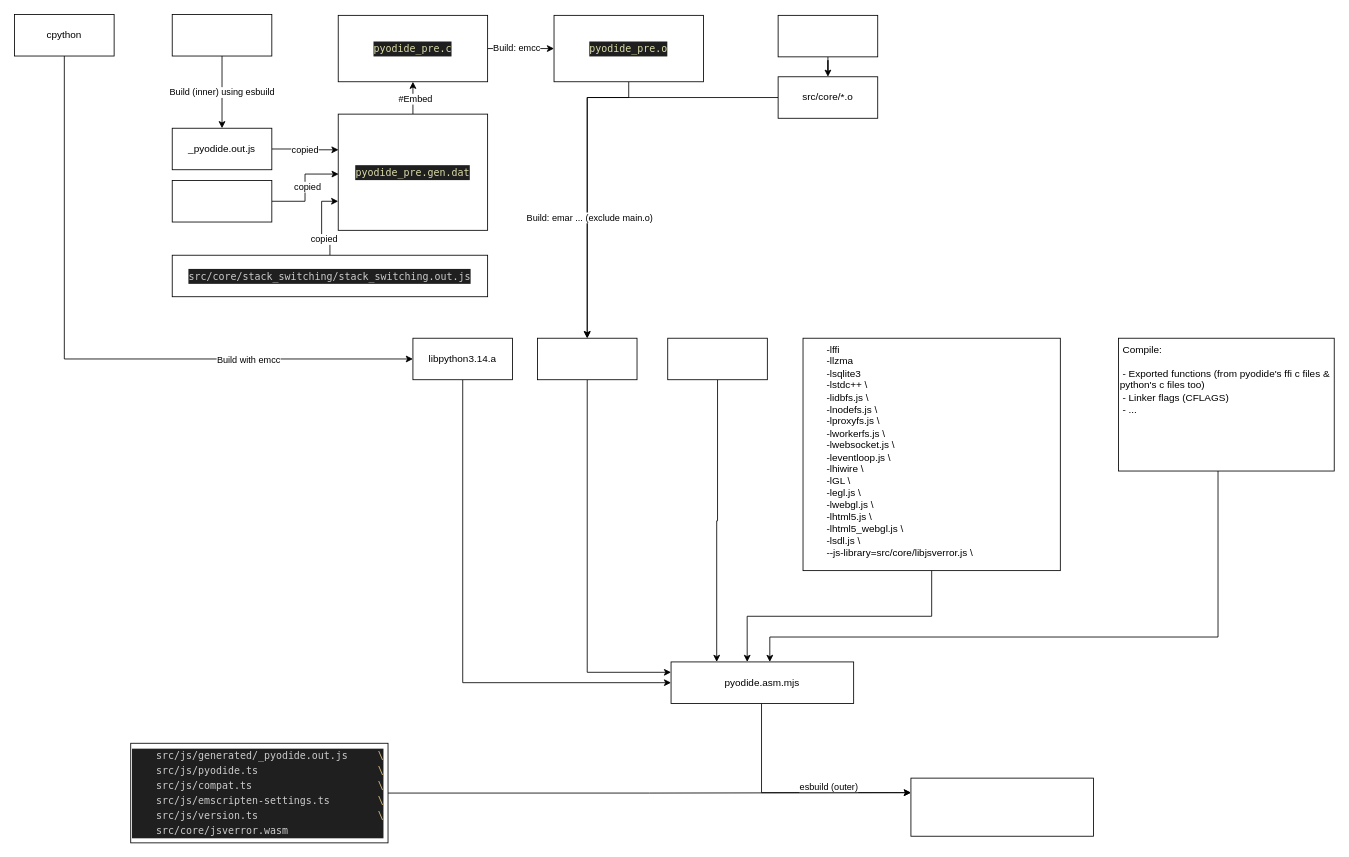
Image size: 1349x857. Some labels were removed from this diagram. The shapes that lost their labels are listed below. From the top down, each one's centre as x and y in pixels, then its label:
At pixel 221 35: "src/js/*.js".
At pixel 827 36: "src/core/*.c".
At pixel 221 201: "src/core/pre.js".
At pixel 587 358: "libpyodide.a".
At pixel 717 358: "main.o".
At pixel 1002 806: "pyodide.js".
